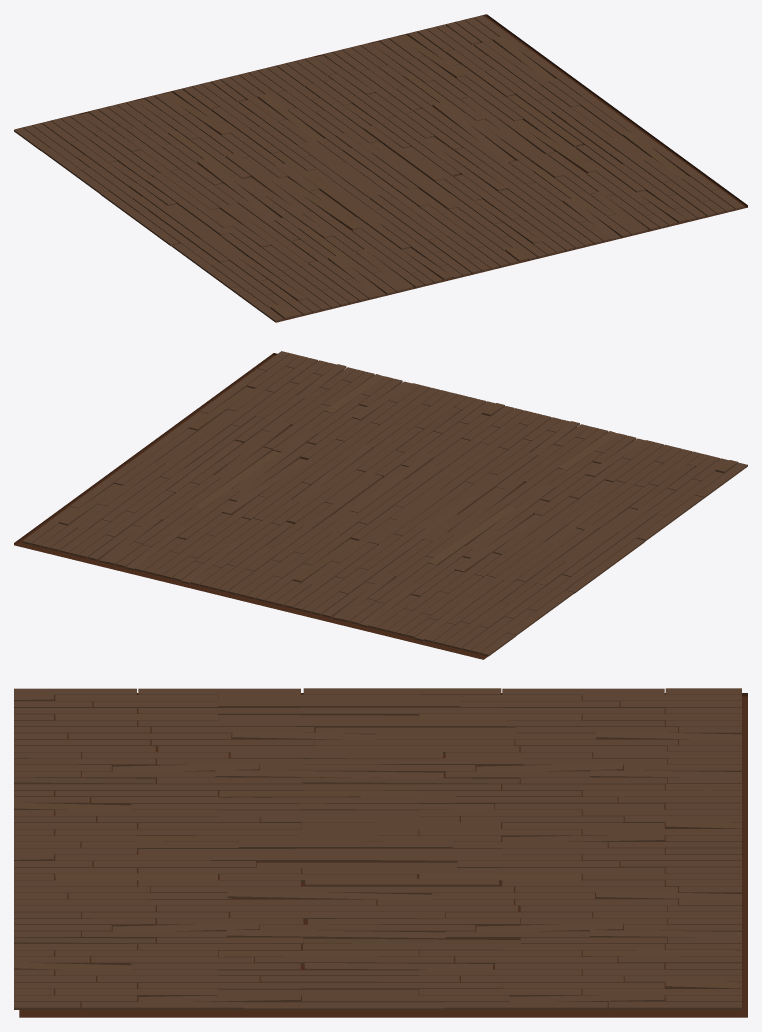
File: woodenFloor.fbx
3 renders of one model, top to bottom at view 1: azimuth 30°, elevation 25°; view 2: azimuth 150°, elevation 25°; view 3: azimuth 270°, elevation 25°, orthographic. The views are drawn at different scales.
Parts seen in each view (by area): view 1: Cube.001; view 2: Cube.001; view 3: Cube.001.
Part boxes in pixels (x1=…): Cube.001: x1=14, y1=14, x2=747, y2=322; Cube.001: x1=14, y1=351, x2=747, y2=659; Cube.001: x1=14, y1=688, x2=747, y2=1017.
Bounding box in the file's own units: 4214 × 47.91 × 4042.
